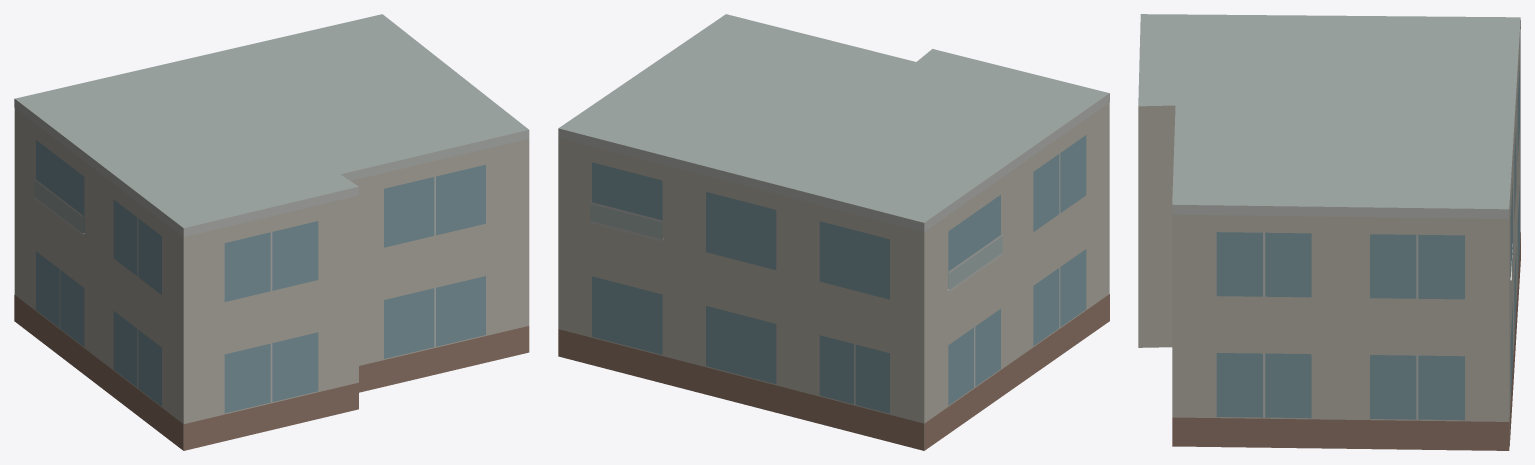
Rendered from survey-upis-32790515.glb.
The picture shows the model from 3 angles, left to right: view 1: azimuth 30°, elevation 25°; view 2: azimuth 150°, elevation 25°; view 3: azimuth 270°, elevation 25°; orthographic projection. The views are drawn at different scales.
Visible parts, largest first — view 1: survey-upis-32790515.tmp; view 2: survey-upis-32790515.tmp; view 3: survey-upis-32790515.tmp.
Part boxes in pixels (box(x1,y1,x2,y2)): survey-upis-32790515.tmp: box(14, 14, 529, 450); survey-upis-32790515.tmp: box(558, 14, 1109, 450); survey-upis-32790515.tmp: box(1138, 14, 1520, 450).
Bounding box in the file's own units: 10.58 × 6.1 × 8.76.
